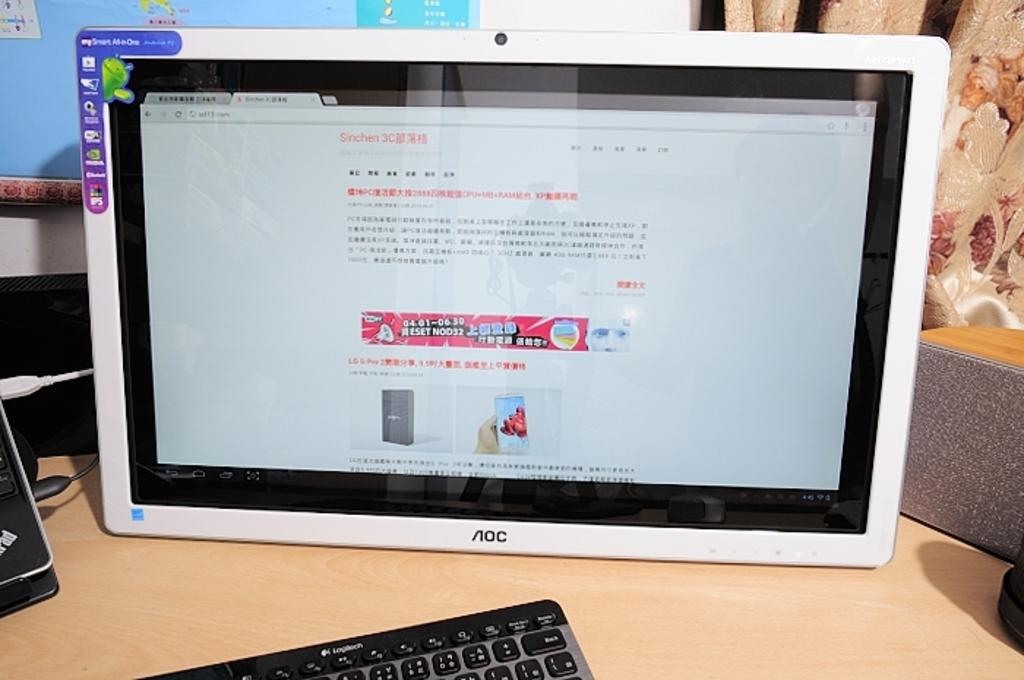Computer-keyboard: (138, 595, 594, 679)
Computer-monitor: (54, 25, 946, 586)
